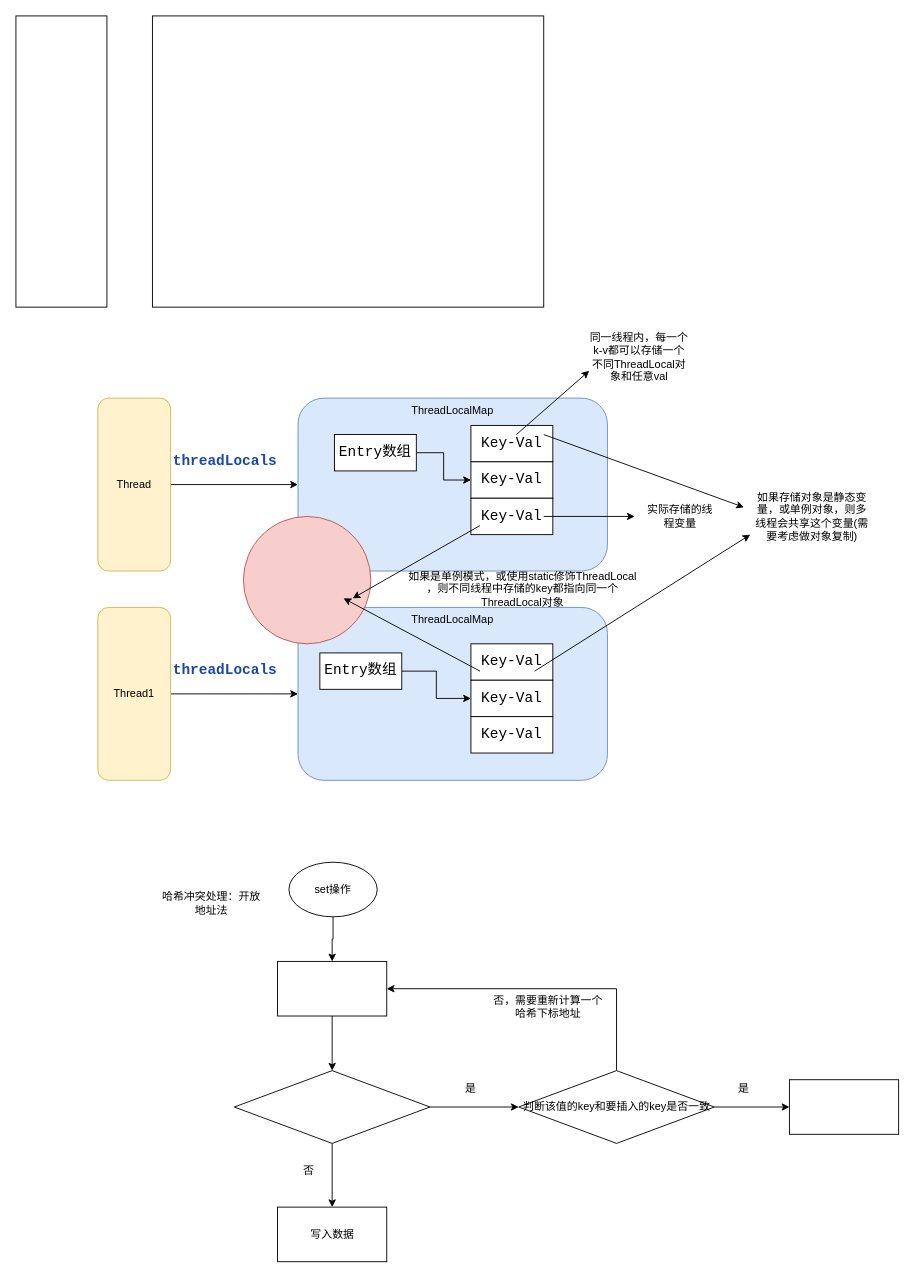
This 915x1278 diagram has some shape labels left out. Here are the shapes that lost their labels. From the top down, the centre of each, then its label:
the point at 307,580: ThreadLocal实例
the point at 332,988: 通过hash函数得到Entry数组下标
the point at 331,1106: 判断数组对应下标位置是否已经存在值
the point at 844,1106: 修改数据
